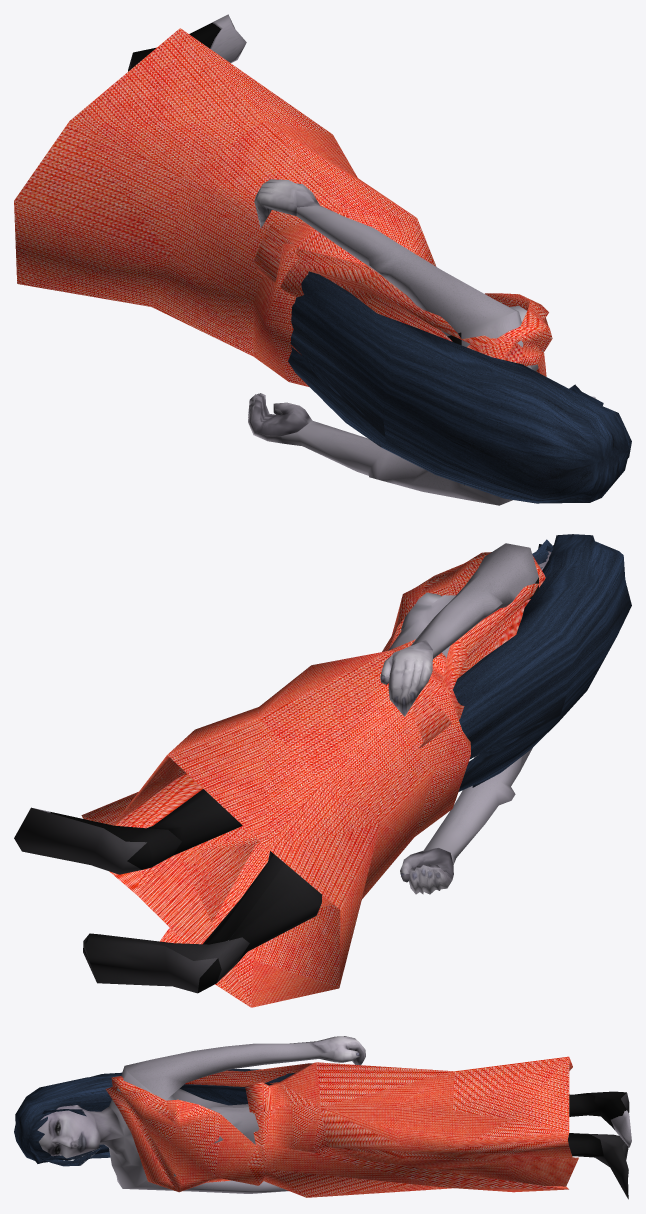
The model's file is sita_000151.obj.
3 views of the same model, one above another, from view 1: azimuth 30°, elevation 25°; view 2: azimuth 150°, elevation 25°; view 3: azimuth 270°, elevation 25° (orthographic). The views are drawn at different scales.
Visible parts, largest first — view 1: saree_Cylinder, hair.003_omino.013, body.001_omino.012; view 2: saree_Cylinder, body.001_omino.012, hair.003_omino.013; view 3: saree_Cylinder, body.001_omino.012, hair.003_omino.013.
Part boxes in pixels (x1,y1,x2,y2): saree_Cylinder: (14, 28, 552, 386); hair.003_omino.013: (288, 271, 631, 503); body.001_omino.012: (128, 14, 595, 505); saree_Cylinder: (81, 552, 545, 1007); body.001_omino.012: (14, 543, 551, 993); hair.003_omino.013: (453, 534, 631, 791); saree_Cylinder: (105, 1056, 578, 1197); body.001_omino.012: (37, 1036, 631, 1199); hair.003_omino.013: (14, 1069, 294, 1166).
Bounding box in the file's own units: 0.9257 × 0.7904 × 2.72.
